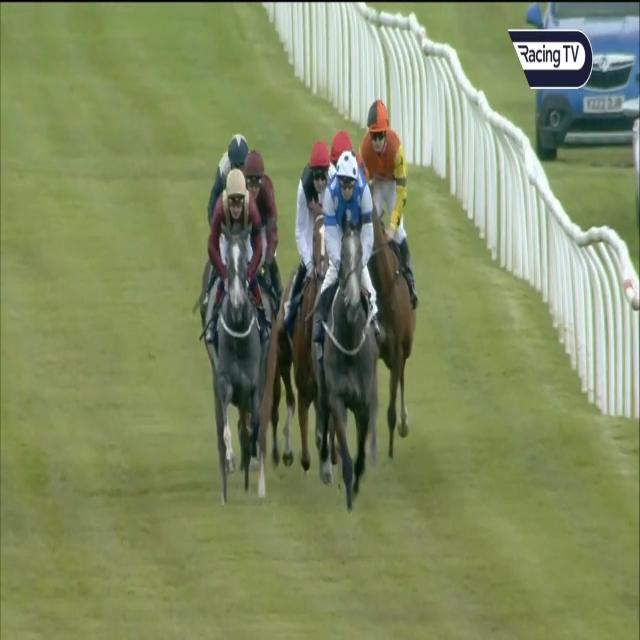horses-racing: (316, 143, 396, 511), (356, 97, 432, 472), (198, 177, 283, 498), (279, 137, 337, 474), (232, 139, 294, 284), (214, 122, 253, 206), (327, 124, 369, 184)
